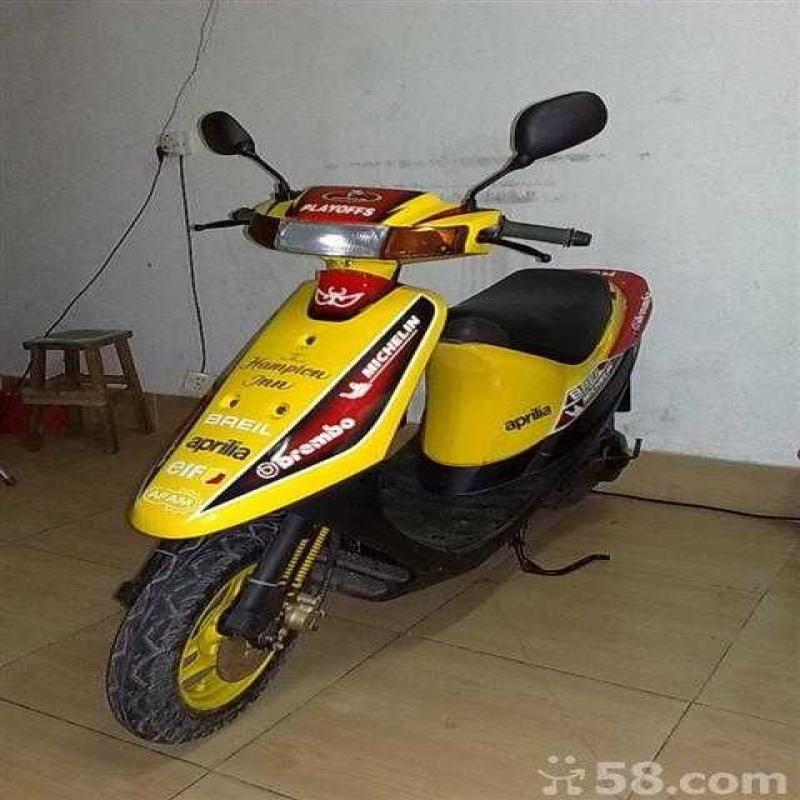bike: (110, 96, 729, 722)
